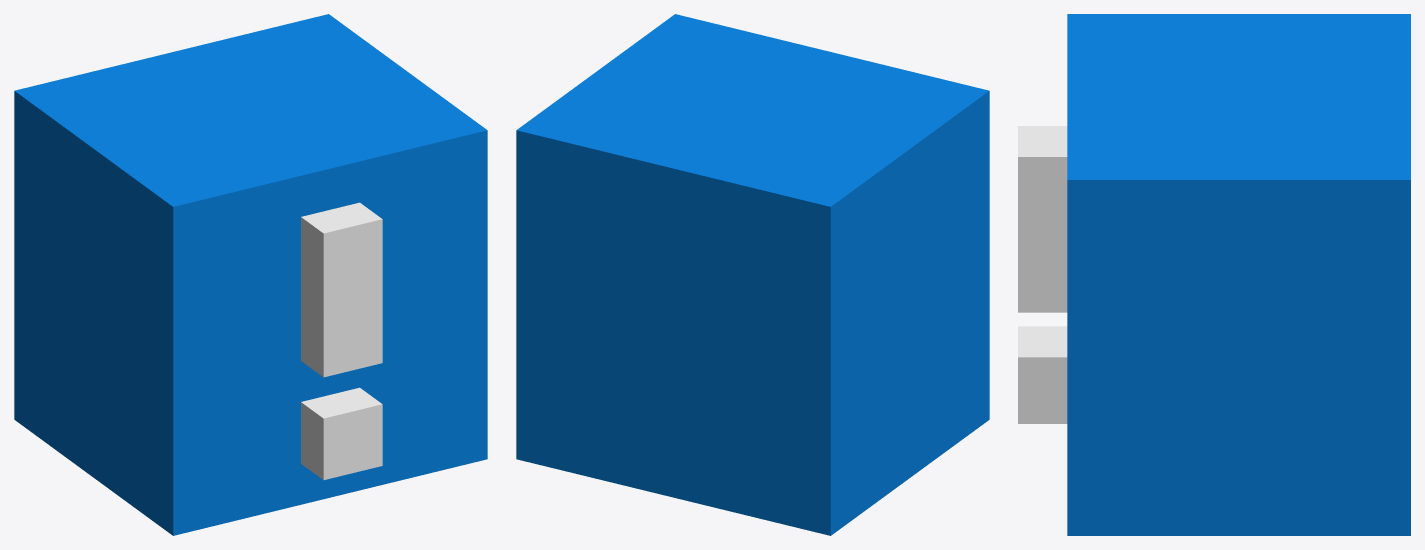
File: cube-tip.glb
The picture shows the model from 3 angles, left to right: view 1: azimuth 30°, elevation 25°; view 2: azimuth 150°, elevation 25°; view 3: azimuth 270°, elevation 25°; orthographic projection. The views are drawn at different scales.
Visible parts, largest first — view 1: cube-tip; view 2: cube-tip; view 3: cube-tip.
Part boxes in pixels (x1,y1,x2,y2): cube-tip: (14,14,487,535); cube-tip: (516,14,989,535); cube-tip: (1018,14,1410,535).
Bounding box in the file's own units: 1 × 1 × 1.
